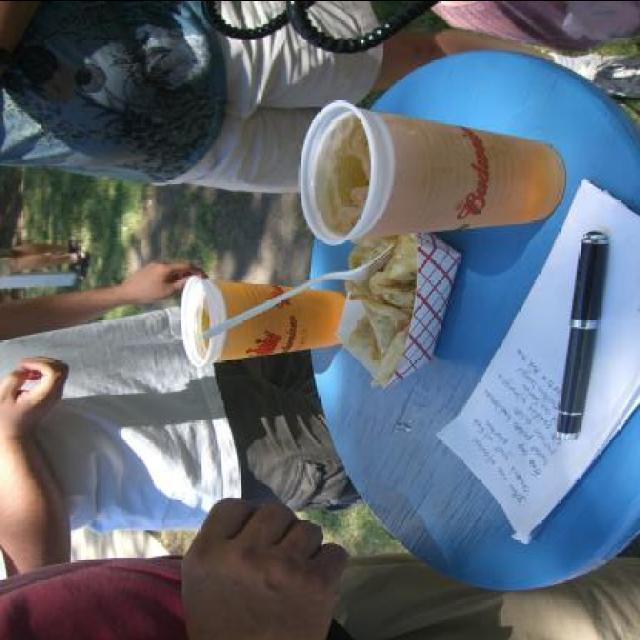Juice: (264, 99, 538, 247)
